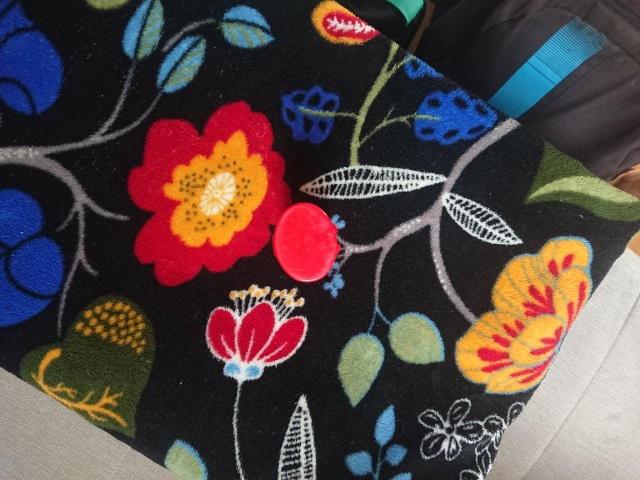Kotanyi Curry Spices Mix 70g: (269, 200, 343, 285)
